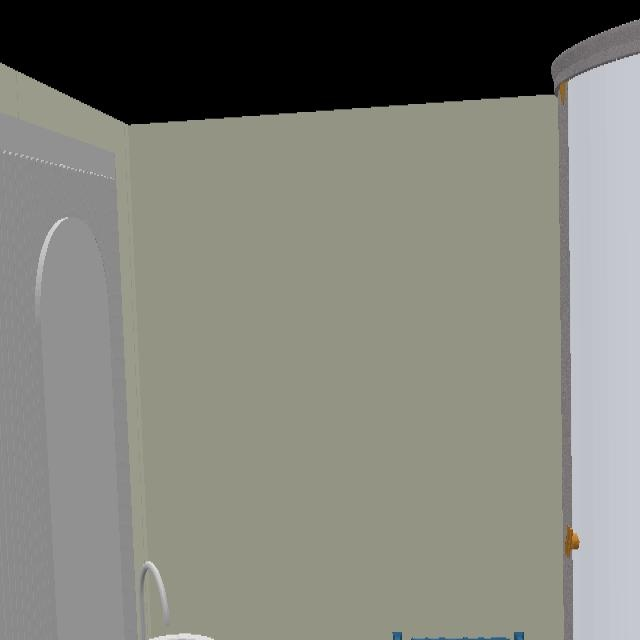shower: (558, 51, 640, 640)
